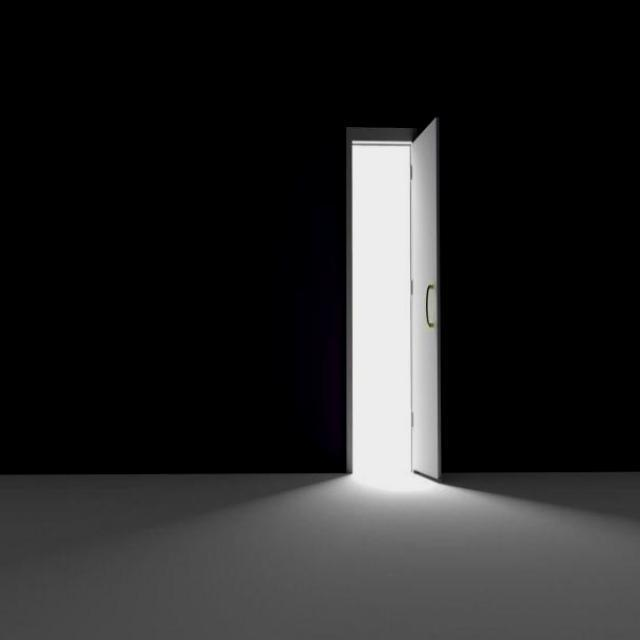door: (409, 116, 441, 480)
